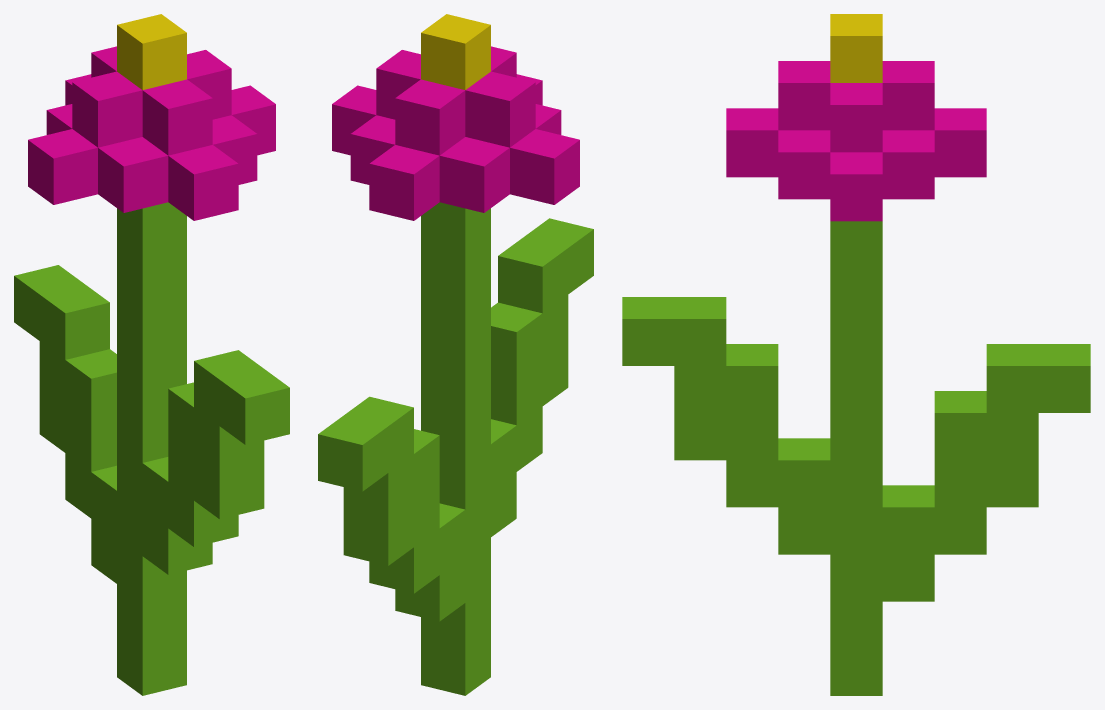
The model's file is Pink 2 tall flower.fbx.
3 views of the same model, side by side, from view 1: azimuth 30°, elevation 25°; view 2: azimuth 150°, elevation 25°; view 3: azimuth 270°, elevation 25° (orthographic).
Parts seen in each view (by area): view 1: Untitled; view 2: Untitled; view 3: Untitled.
Boxes of the visible parts, x1=… form: Untitled: x1=14, y1=14, x2=289, y2=695; Untitled: x1=318, y1=14, x2=593, y2=695; Untitled: x1=622, y1=14, x2=1090, y2=695.
Size of the model in its own units: 50 by 140 by 90.
